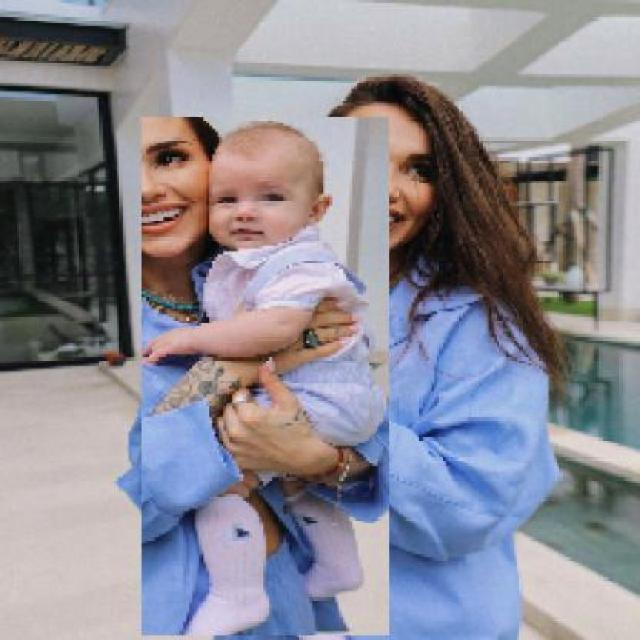child: (140, 117, 389, 637)
